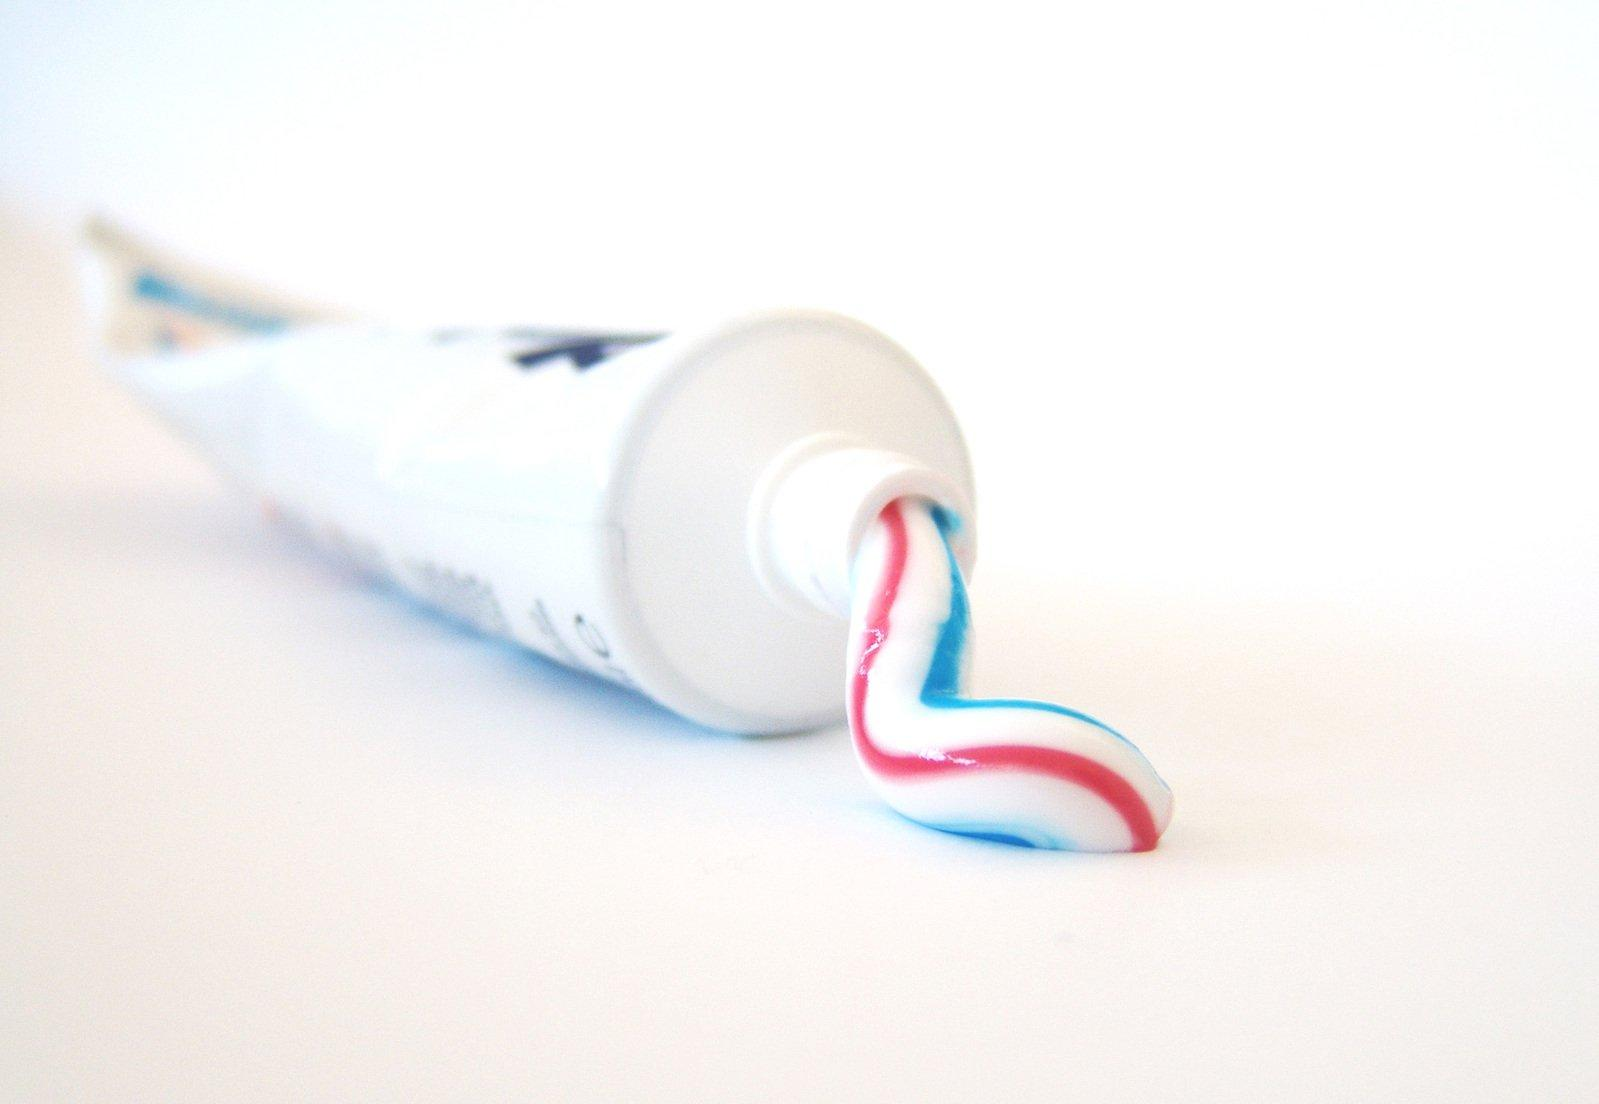toothpaste: (43, 160, 987, 745)
